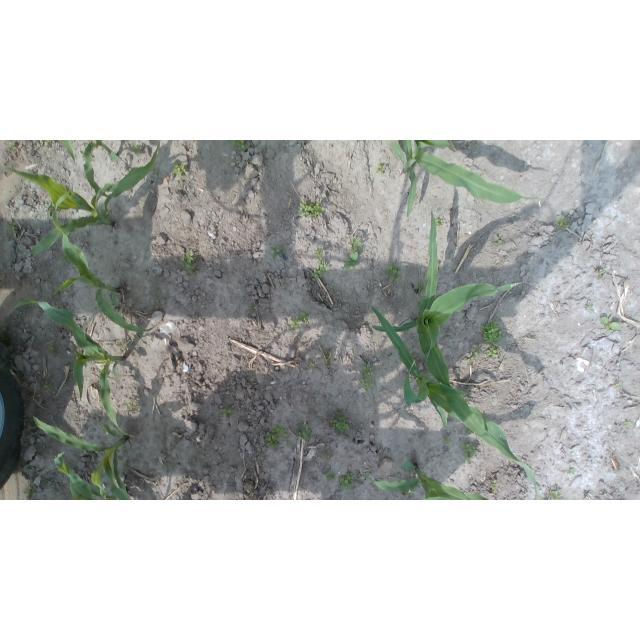Maize: (360, 303, 541, 500), (374, 207, 522, 429), (7, 299, 134, 437), (6, 141, 160, 250), (50, 187, 147, 333), (389, 140, 546, 218), (30, 416, 134, 500), (366, 460, 491, 500), (52, 452, 132, 500), (58, 141, 123, 200)
Weeds: (265, 423, 291, 449), (481, 318, 504, 347), (343, 237, 362, 270), (298, 198, 327, 219), (312, 248, 331, 278), (460, 442, 481, 464), (359, 362, 374, 391), (180, 251, 197, 276), (330, 412, 350, 433), (601, 316, 622, 333), (384, 263, 402, 282), (291, 311, 310, 329), (293, 424, 313, 439), (171, 159, 187, 177), (123, 399, 142, 413), (340, 473, 354, 491), (556, 214, 571, 230), (545, 487, 563, 500), (3, 221, 18, 235), (469, 345, 483, 357), (487, 346, 502, 357), (218, 407, 234, 417), (230, 140, 246, 150), (414, 283, 427, 294), (271, 246, 282, 259), (44, 202, 53, 217), (376, 163, 387, 175), (132, 143, 145, 153), (117, 340, 126, 353), (466, 353, 477, 363), (599, 269, 608, 281), (494, 236, 504, 246), (44, 381, 53, 391), (434, 218, 444, 227), (326, 472, 336, 481), (61, 253, 70, 263), (324, 353, 332, 364), (586, 303, 595, 312), (624, 420, 632, 429), (442, 438, 453, 444), (43, 141, 56, 146), (493, 479, 498, 491), (8, 142, 16, 149), (321, 453, 330, 459), (23, 489, 29, 496), (615, 382, 622, 388), (308, 363, 314, 370), (568, 467, 574, 473), (80, 150, 84, 158), (251, 304, 258, 308)
